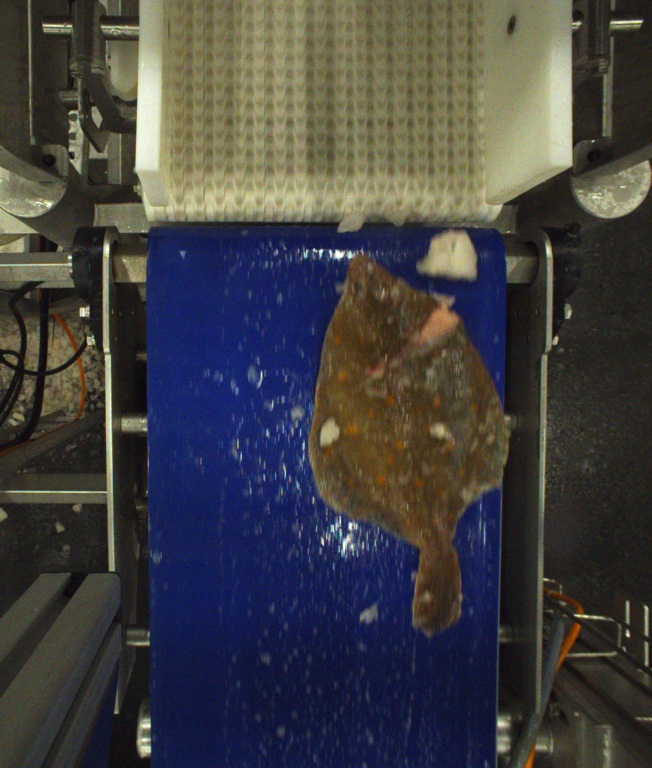PLE: (309, 254, 510, 632)
